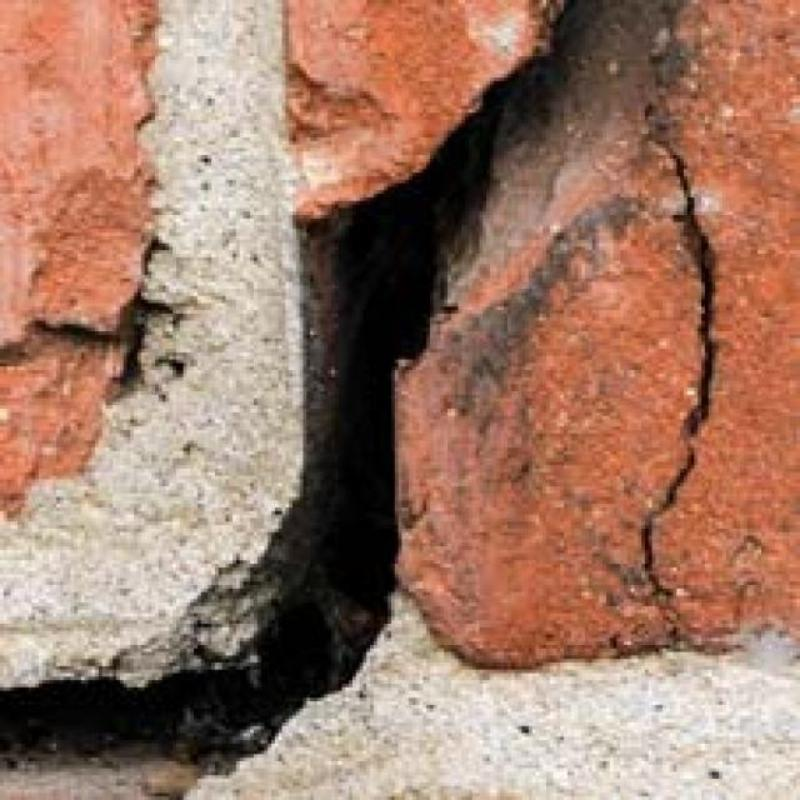pothole: (0, 80, 510, 800), (641, 142, 717, 645)
